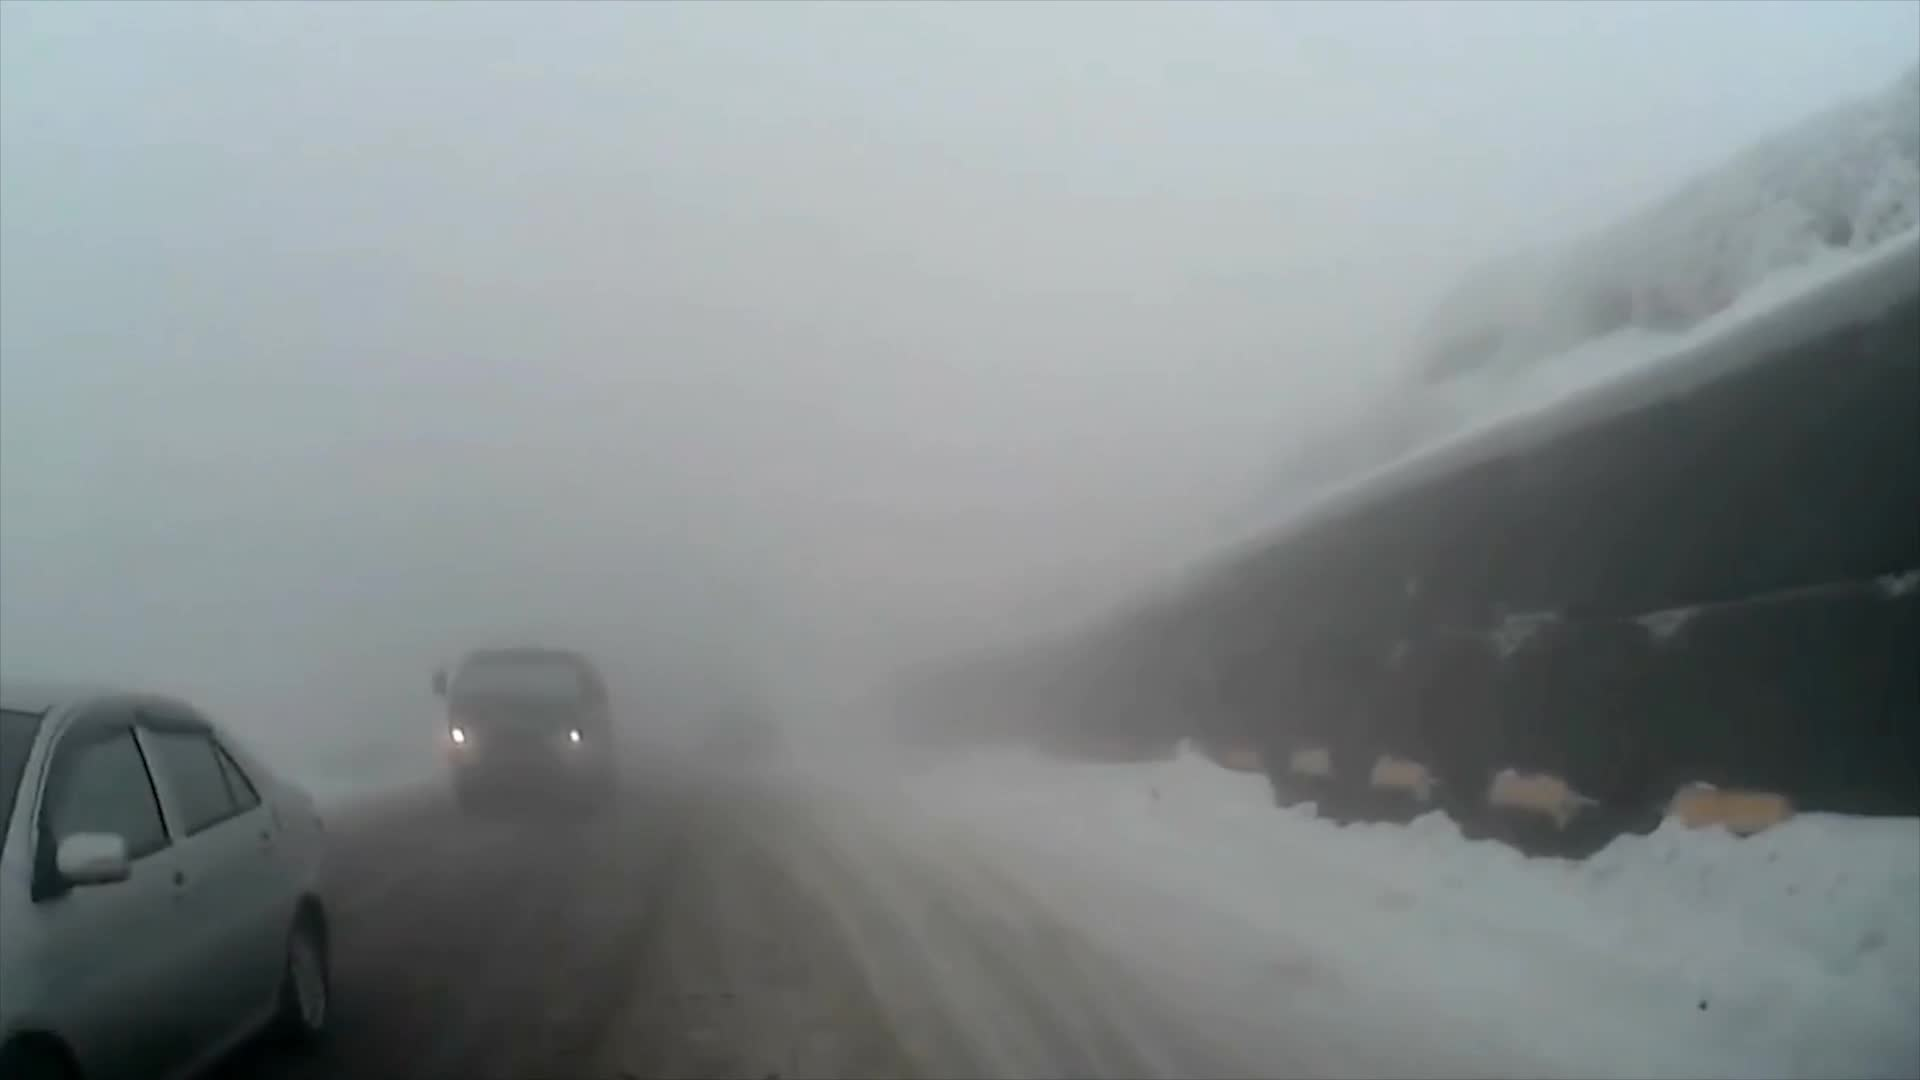vehicle: (0, 679, 334, 1080), (426, 641, 618, 811)
